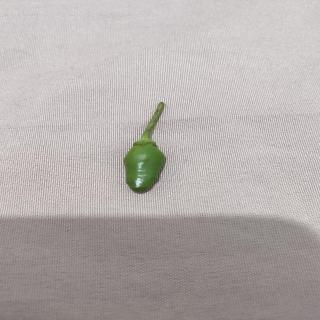Cabai Hijau: (121, 100, 175, 195)
